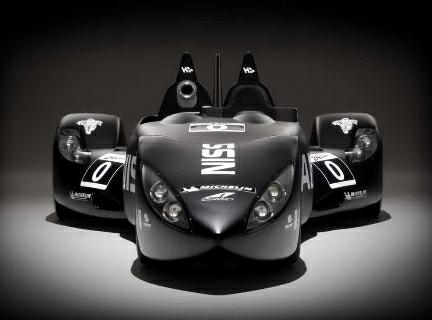日产-DeltaWing: (45, 50, 397, 278)
